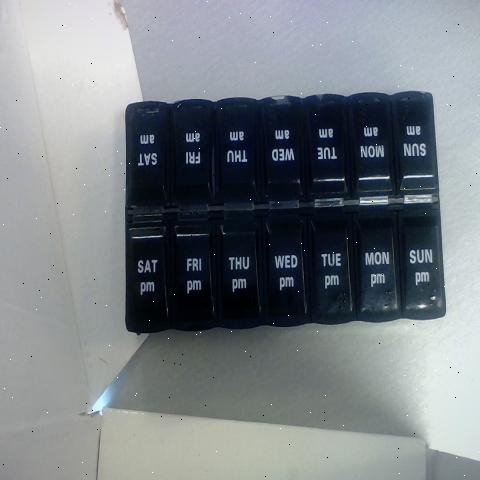FRI-am: (175, 104, 211, 198)
FRI-pm: (173, 219, 211, 327)
MON-am: (350, 89, 393, 193)
MON-pm: (358, 206, 398, 317)
SAT-am: (129, 109, 168, 206)
SAT-pm: (131, 220, 169, 330)
SUN-am: (398, 92, 432, 190)
SUN-pm: (403, 202, 440, 314)
THU-am: (214, 108, 255, 202)
THU-pm: (217, 217, 257, 325)
TUE-am: (310, 93, 350, 196)
TUE-pm: (308, 208, 350, 318)
WED-am: (259, 96, 301, 200)
WED-pm: (262, 207, 304, 320)
